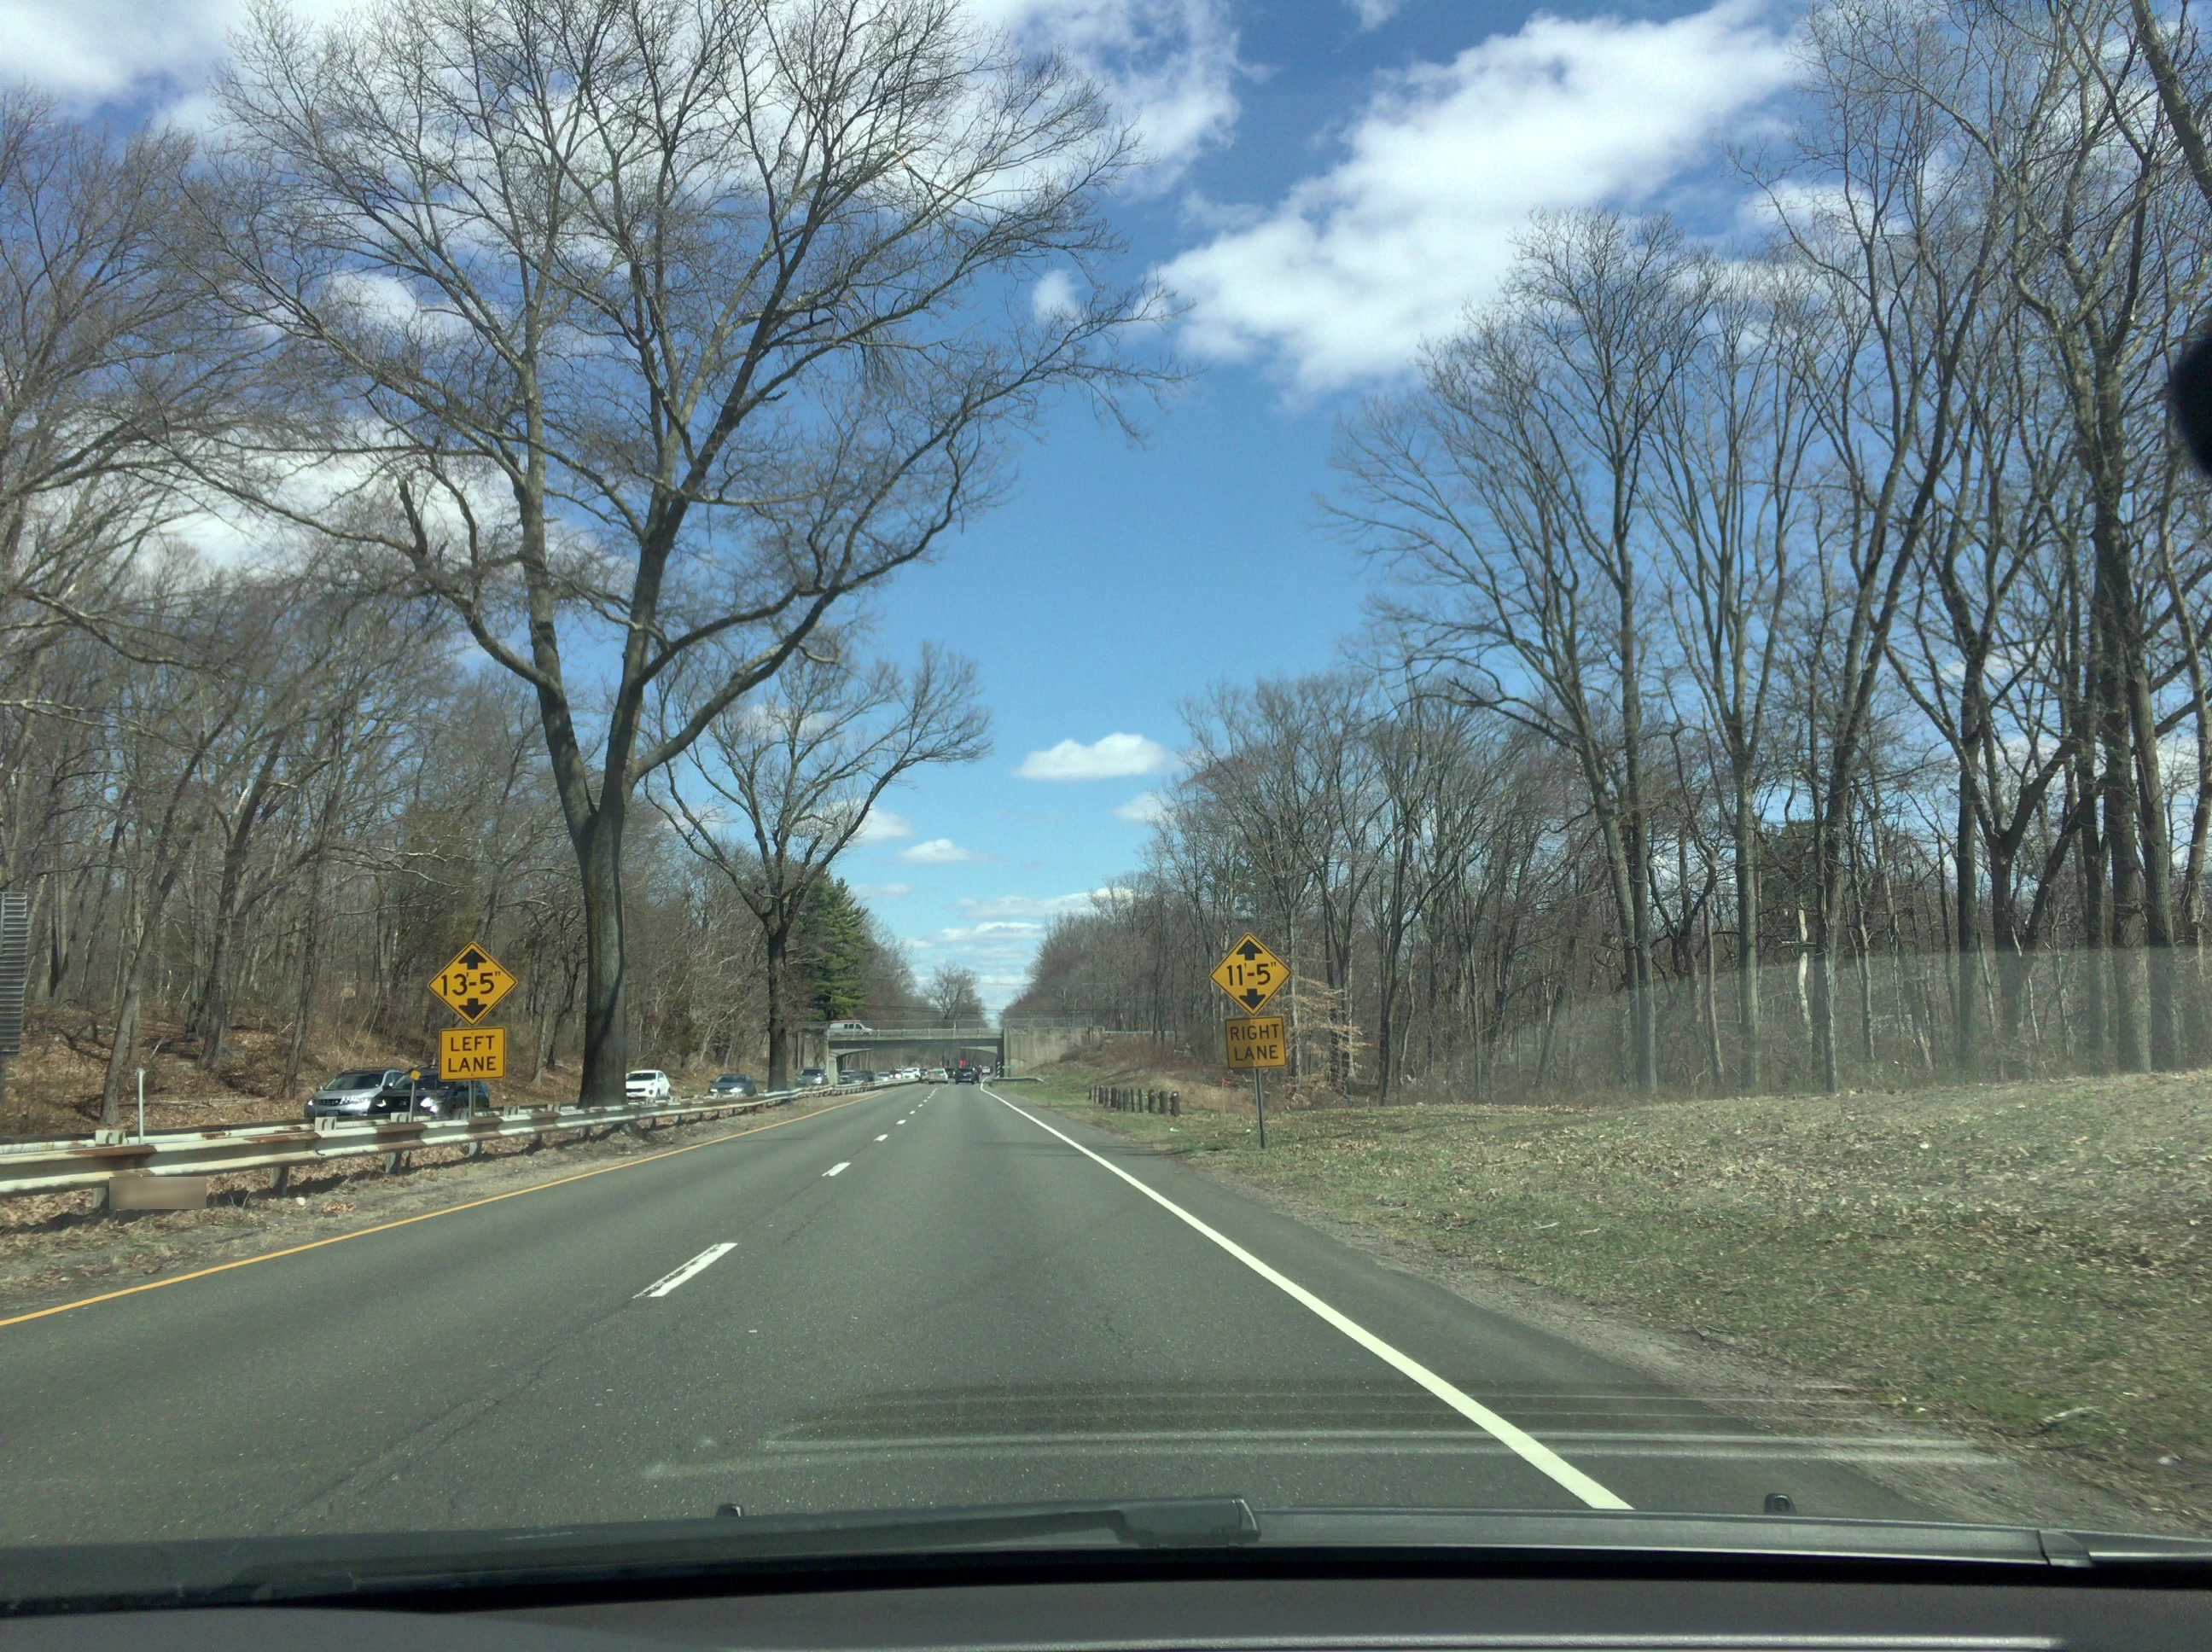low-clearance-sign: (427, 941, 519, 1027), (1209, 932, 1294, 1015)
